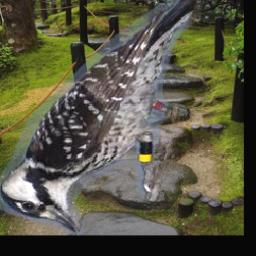Woodpecker: (0, 0, 200, 234)
